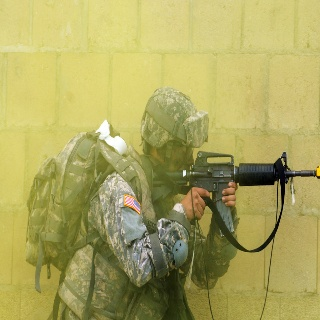rifle: (151, 150, 320, 237)
